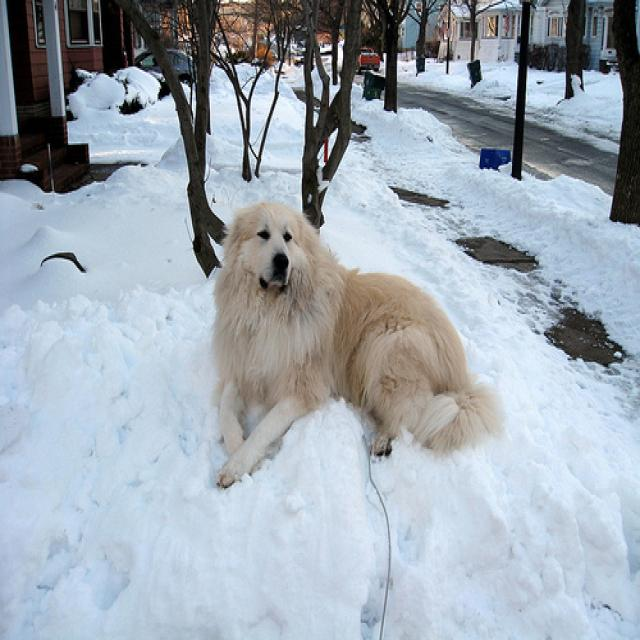dog-great_pyrenees: (200, 188, 513, 498)
